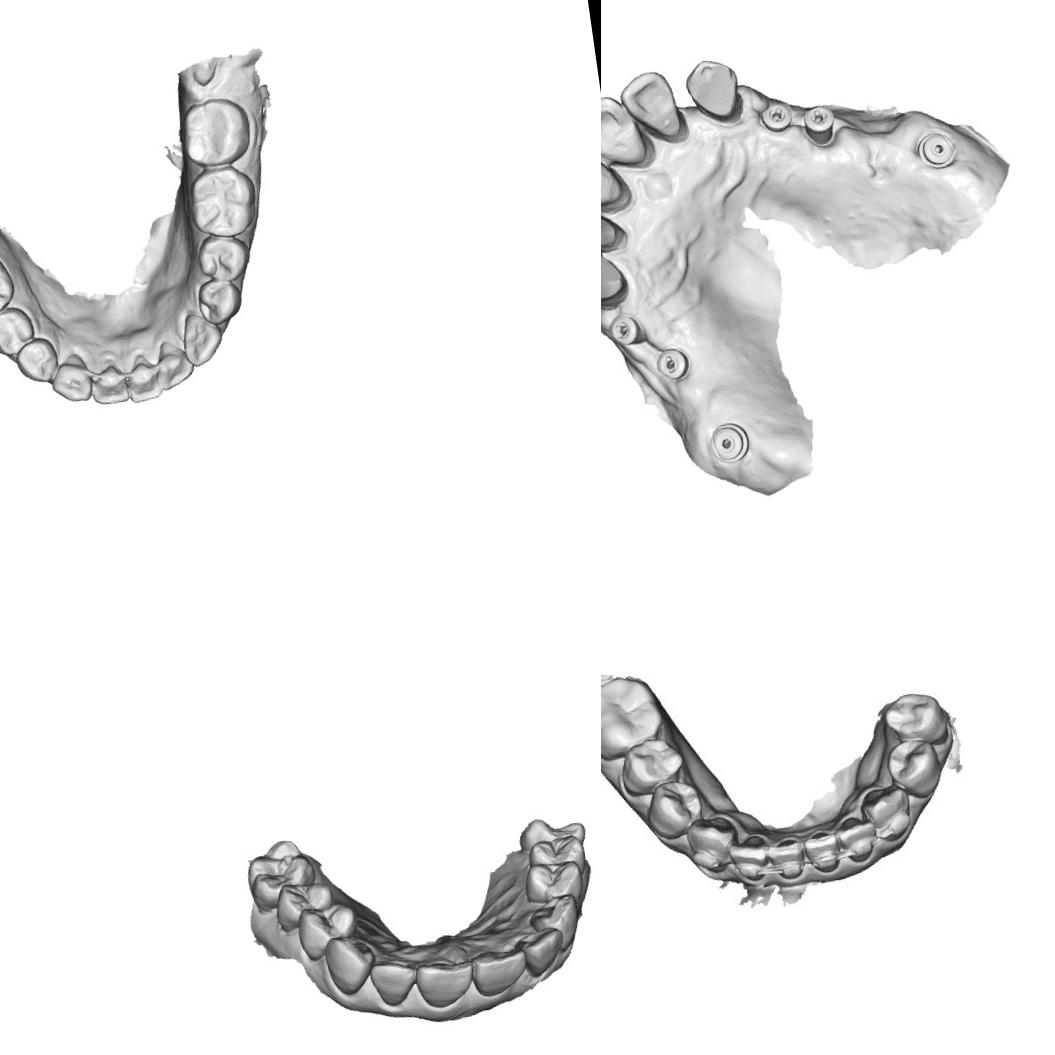canine: (681, 54, 746, 132), (316, 930, 378, 999), (688, 815, 744, 875), (177, 307, 227, 369), (46, 349, 97, 407), (865, 788, 917, 844), (526, 894, 584, 944), (601, 241, 631, 313)
implant: (706, 419, 754, 467), (911, 127, 960, 173)
implant_minus: (652, 344, 694, 385), (757, 98, 796, 136)
implant_plus: (800, 102, 840, 150), (605, 310, 647, 348)
incisor: (615, 66, 687, 146), (601, 90, 654, 174), (410, 946, 476, 1008), (363, 956, 420, 1014), (601, 129, 634, 219), (474, 946, 530, 992), (150, 339, 196, 393), (521, 929, 569, 980), (122, 354, 165, 405), (86, 362, 132, 408), (835, 814, 877, 862), (729, 834, 769, 882), (769, 831, 807, 881), (601, 189, 628, 259), (804, 826, 841, 874)
molar: (183, 162, 263, 243), (175, 92, 256, 170), (601, 675, 667, 764), (241, 834, 318, 899), (520, 811, 587, 843), (0, 242, 20, 325)
premolar: (878, 686, 948, 748), (618, 738, 688, 798), (292, 902, 364, 956), (192, 229, 254, 284), (274, 876, 347, 920), (647, 779, 703, 836), (520, 857, 588, 902), (11, 334, 64, 390), (194, 274, 246, 328), (887, 737, 938, 792), (523, 830, 586, 872), (0, 301, 38, 361)
